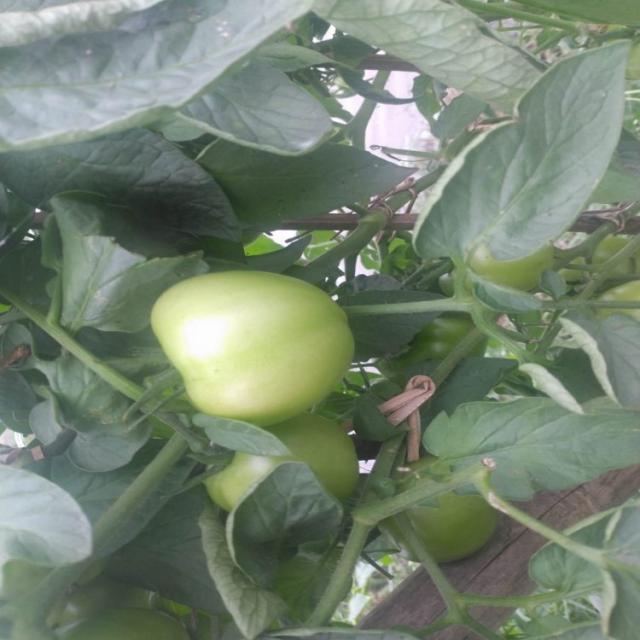tomato: (149, 266, 360, 424), (204, 417, 360, 511), (399, 459, 502, 564), (389, 306, 498, 366), (452, 239, 557, 301), (61, 611, 186, 640)
